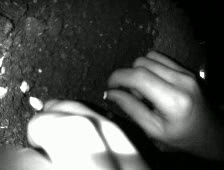corn: (28, 96, 43, 111), (103, 91, 107, 100)
